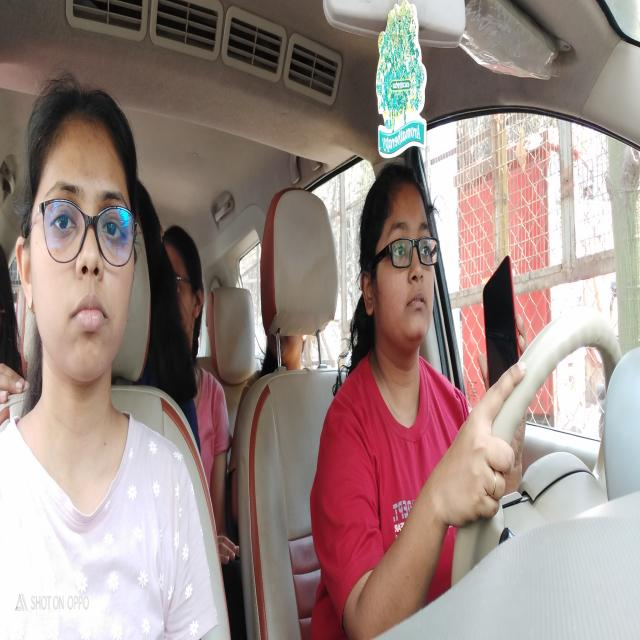mobile: (480, 249, 530, 462)
person: (18, 67, 146, 396), (344, 162, 449, 369), (165, 212, 211, 376)
